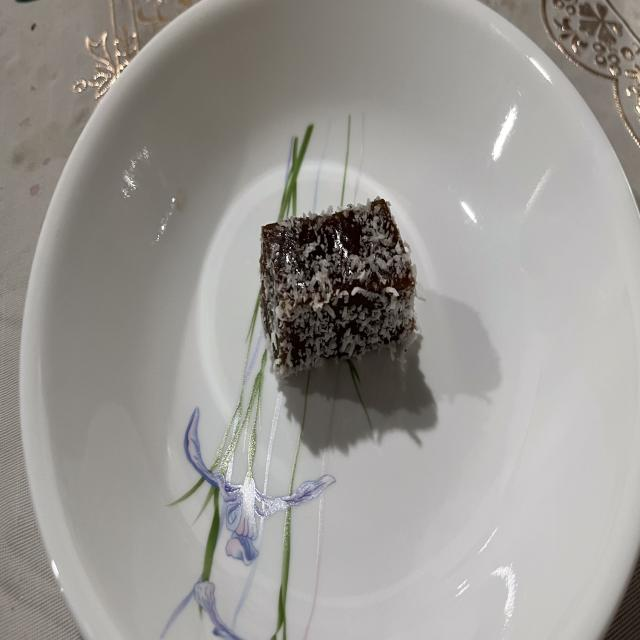kaswi: (260, 198, 415, 378)
